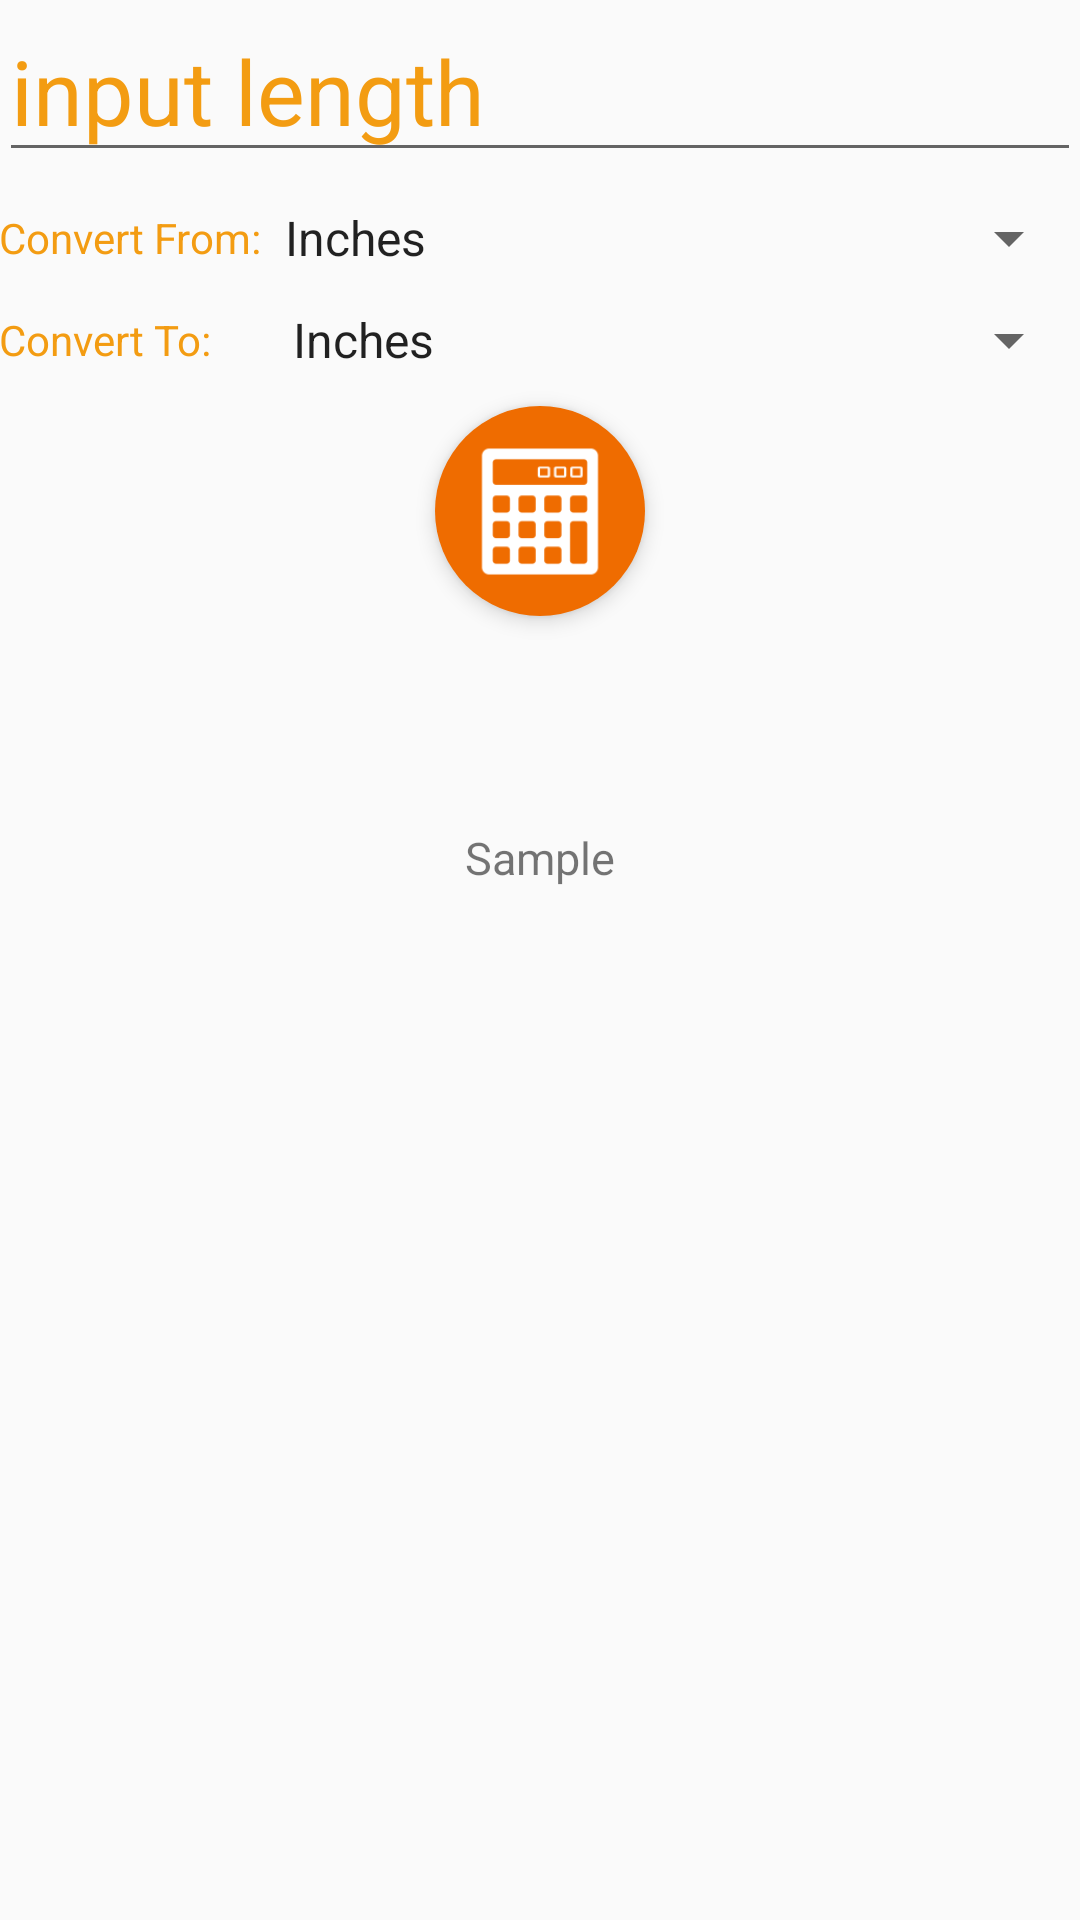

Locate icon controls on the screen. Image size 1080 × 1920, boxes as box=[x1, y1, x2, y2].
calculator: box=[435, 406, 645, 616]
